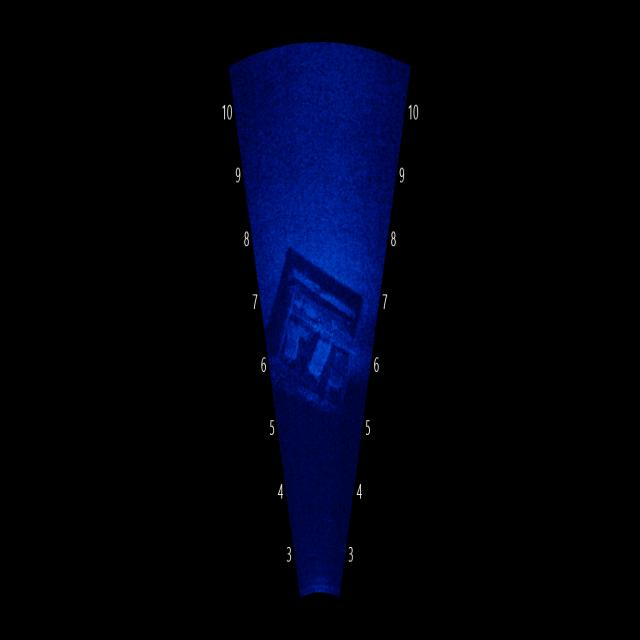square: (258, 243, 366, 431)
